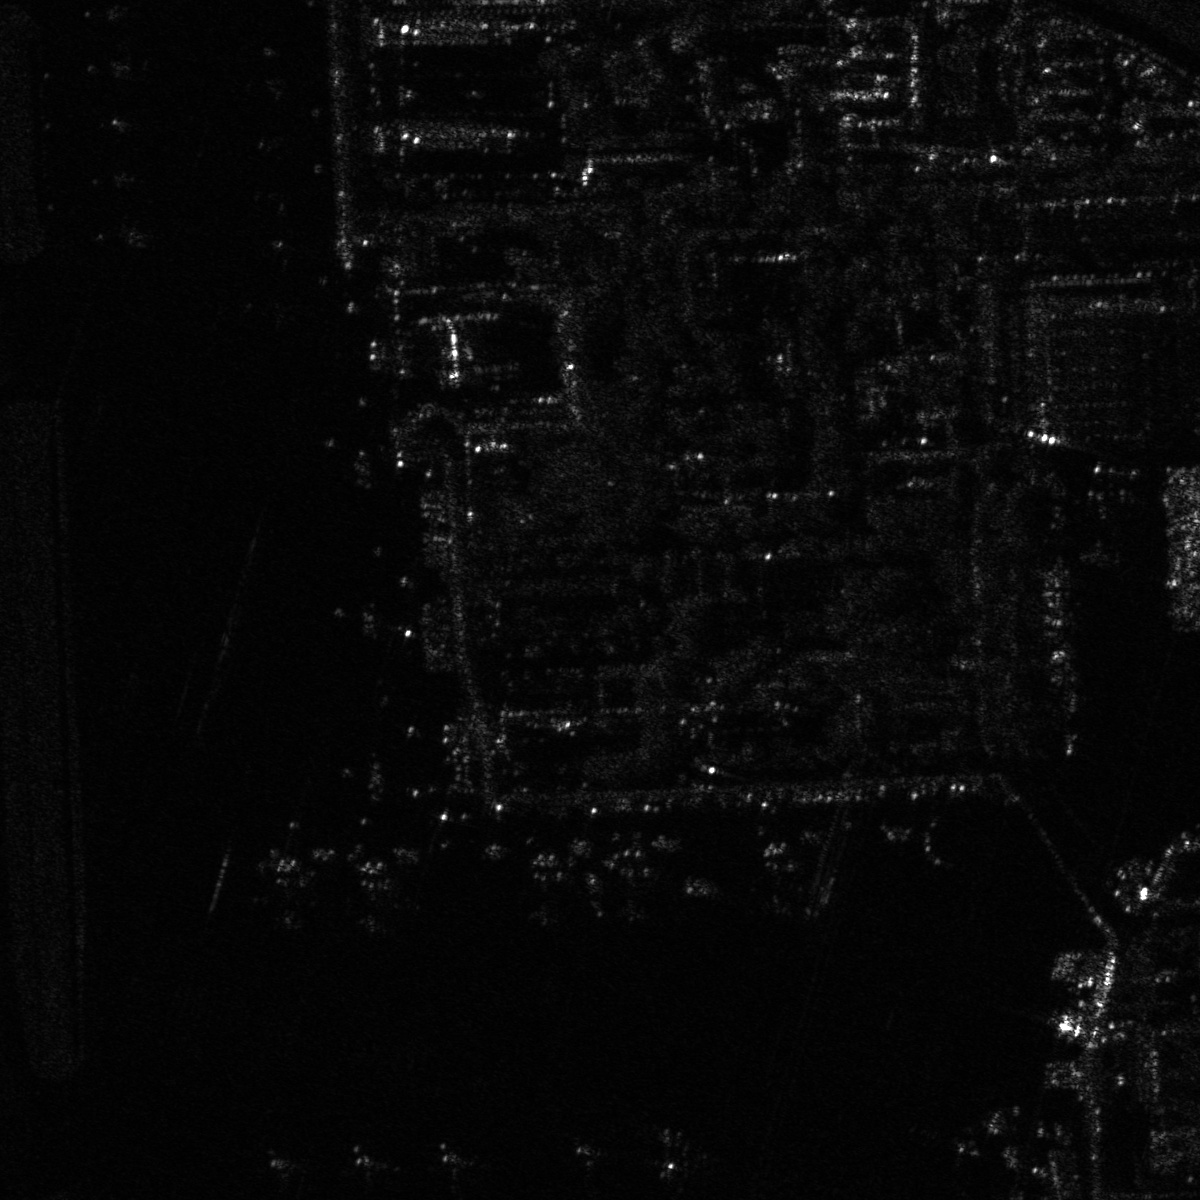A320/321: (244, 851, 323, 934)
ARJ21: (740, 840, 827, 924), (84, 49, 140, 86), (97, 104, 148, 141)
Boeing737: (327, 851, 431, 941), (509, 841, 585, 932), (1074, 482, 1147, 569)
other: (593, 835, 670, 927), (631, 1115, 721, 1193), (914, 1113, 1008, 1177), (555, 1127, 638, 1197), (416, 1141, 484, 1199), (336, 1145, 404, 1197), (244, 1147, 312, 1199), (85, 159, 145, 199), (91, 214, 154, 252)
